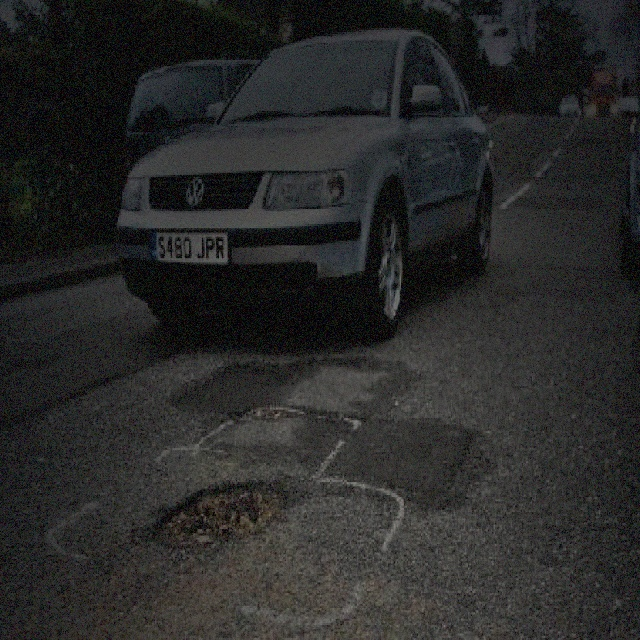pothole: (148, 478, 283, 552), (229, 397, 306, 422)
